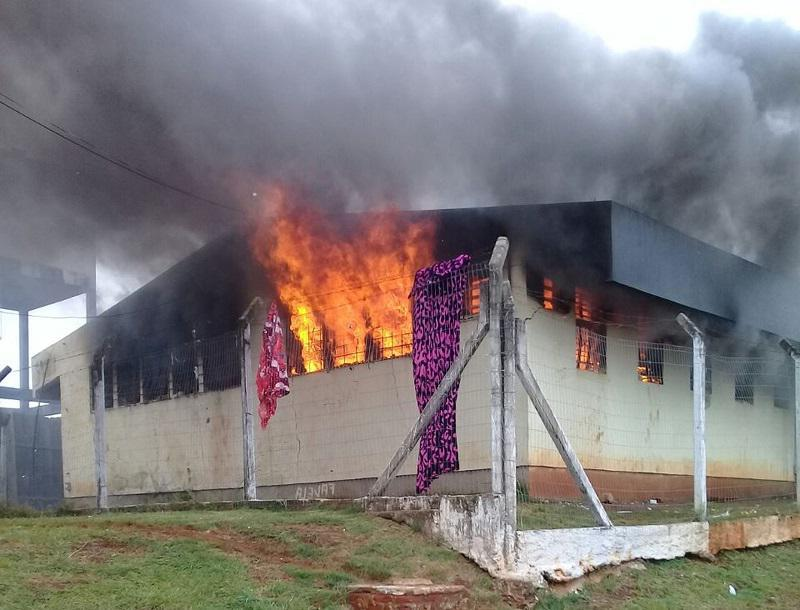Fire: (244, 180, 434, 383)
